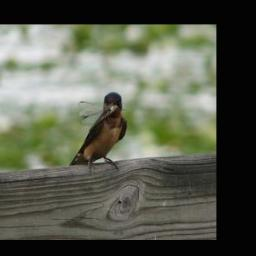Swallow: (69, 91, 127, 176)
